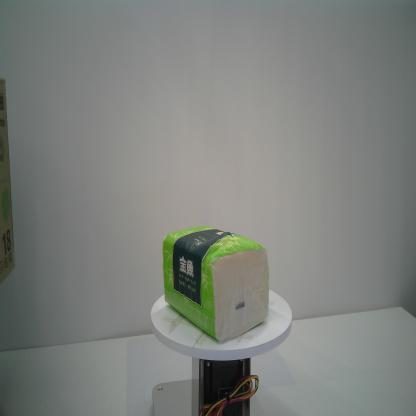Tissue: (161, 224, 271, 344)
